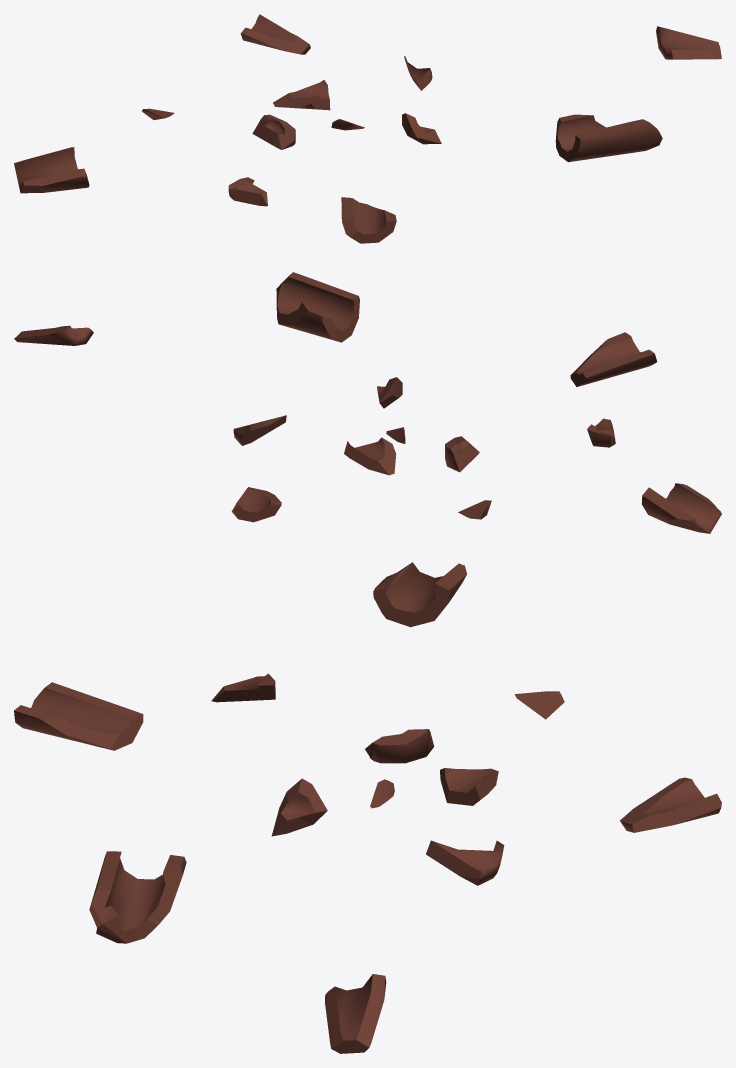
Rendered from TrashPileGlass.fbx.
The picture shows the model from 3 angles, top to bottom: view 1: azimuth 30°, elevation 25°; view 2: azimuth 150°, elevation 25°; view 3: azimuth 270°, elevation 25°; orthographic projection. The views are drawn at different scales.
Parts seen in each view (by area): view 1: TrashPileGlass; view 2: TrashPileGlass; view 3: TrashPileGlass.
Part boxes in pixels (x1=…): TrashPileGlass: x1=14, y1=14, x2=721, y2=243; TrashPileGlass: x1=14, y1=272, x2=721, y2=533; TrashPileGlass: x1=14, y1=562, x2=721, y2=1053.
Bounding box in the file's own units: 108 × 5.95 × 69.92.
